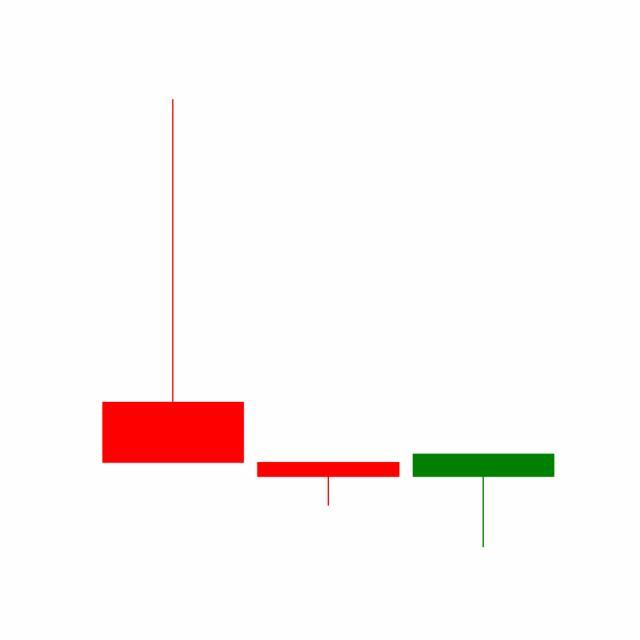Hammer: (250, 462, 407, 507)
